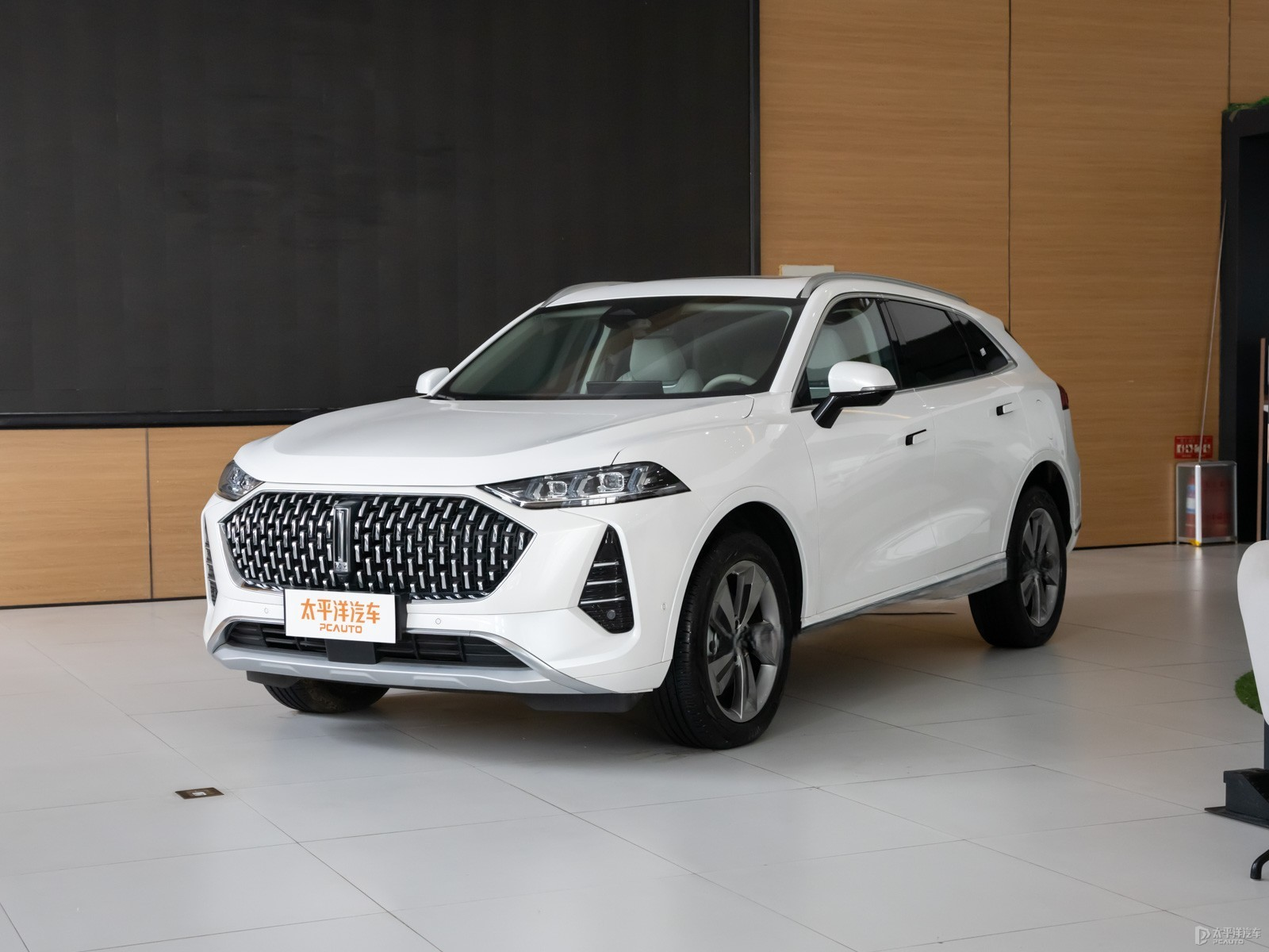WEY: (334, 509, 347, 571)
